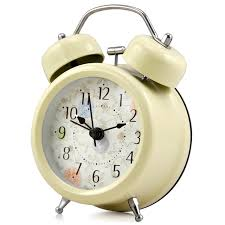alarm_clock: (22, 2, 193, 217), (22, 5, 193, 217), (22, 13, 193, 217)
